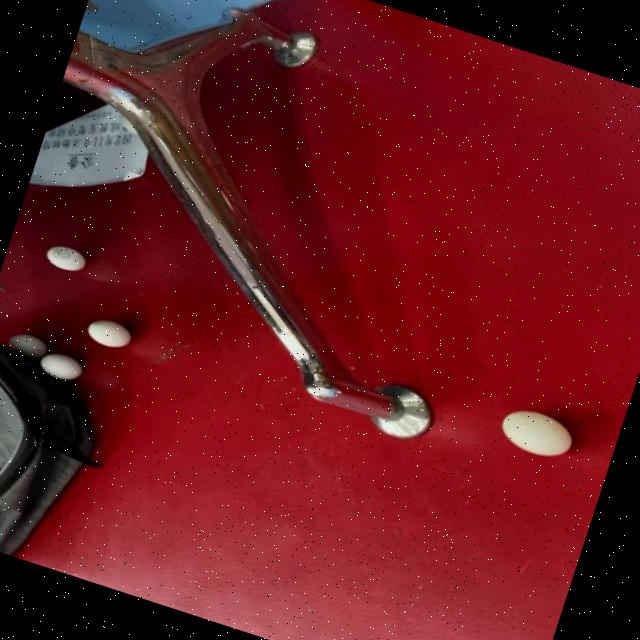ping-pong-ball: (492, 400, 579, 464), (81, 312, 136, 354), (34, 344, 88, 386), (40, 240, 90, 278), (2, 326, 52, 361)
